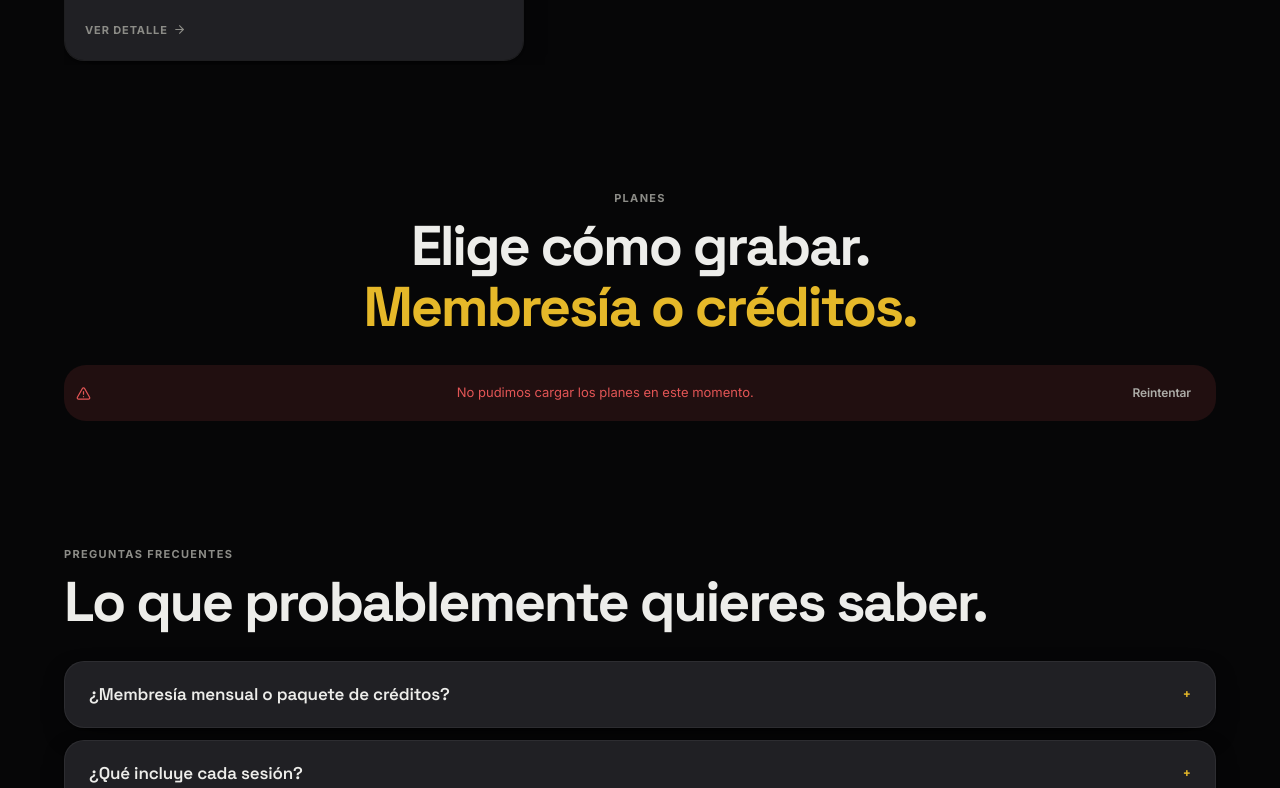
Scenario: Landing · errores públicos (PKG-02A) › fallan los planes → aviso discreto + Reintentar, los estudios siguen; sin error técnico
The width and height of the screenshot is (1280, 788).
(page scrolled)
Expected: the text "No pudimos cargar los planes en este momento." is shown, x1=457 y1=384 x2=754 y2=400
Click the button "Reintentar".
click(1162, 393)  # box x1=1119 y1=375 x2=1204 y2=411
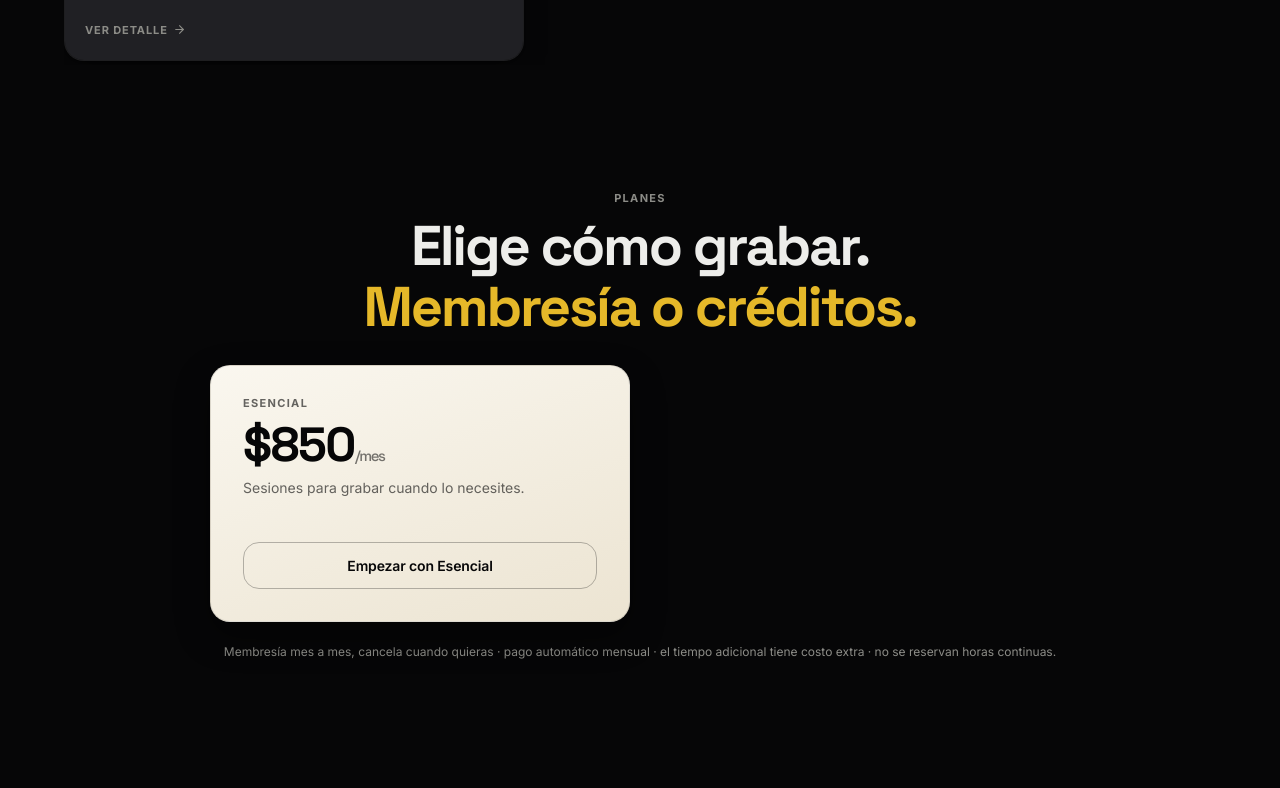
Expected: the text "ESENCIAL" is shown, x1=243 y1=396 x2=308 y2=410
